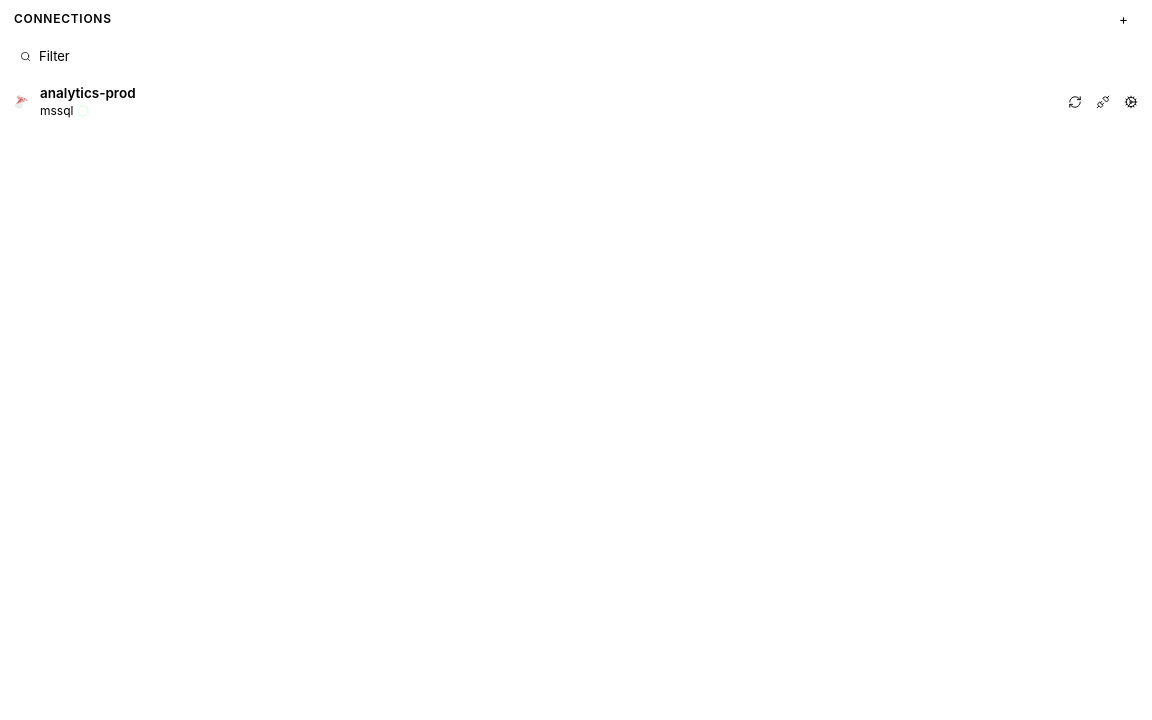
CombinedConnectionsTree › groups MSSQL schema children and defaults to dbo
Click the button with test id "expand-toggle-m1" at (88, 93), box [0,78,1151,126]
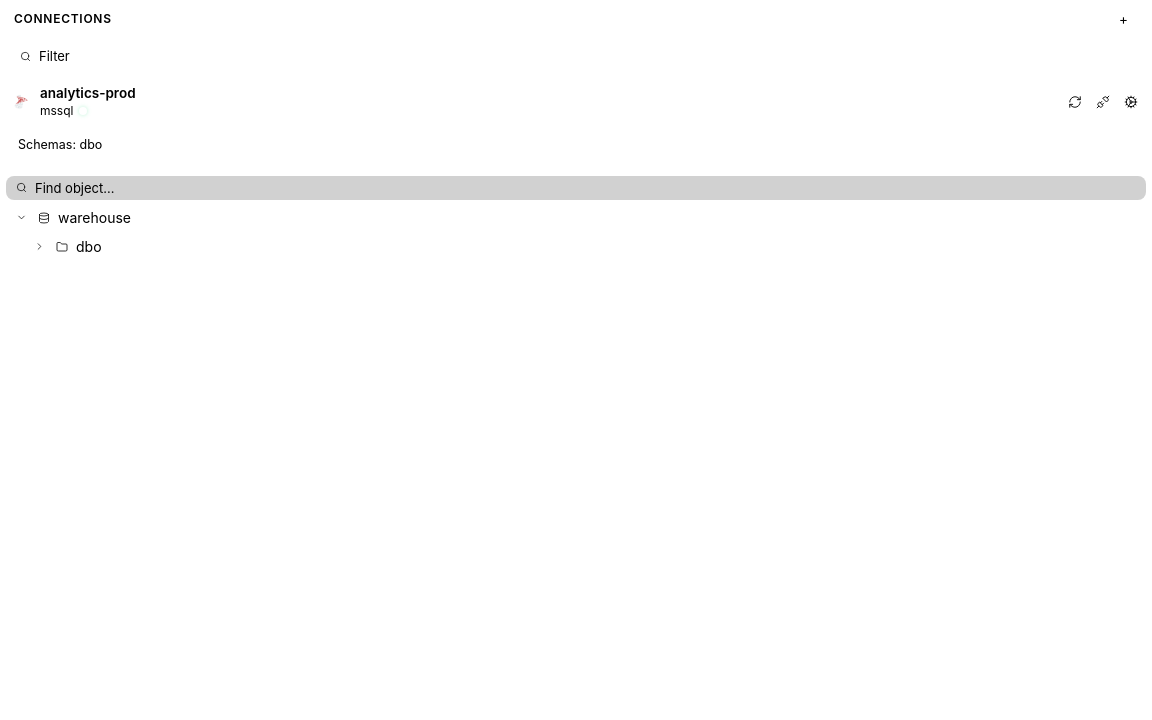
Now the button with test id "schema-select-m1" is shown, box [10,132,1142,160]
Now the element with test id "schema-row-warehouse.dbo" is shown, box [16,233,102,261]
Click the element with test id "chev-warehouse.dbo" at (40, 247), box [34,241,45,252]
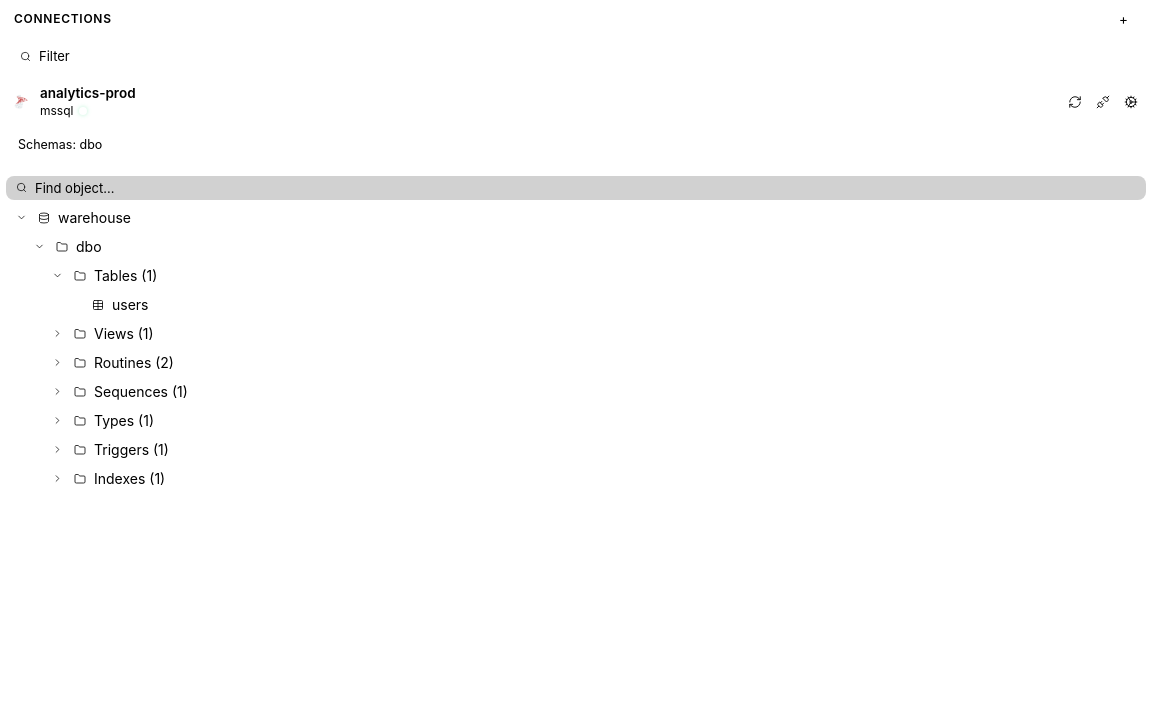
Now the text "Tables (1)" is shown, box [94,266,157,286]
Now the text "Views (1)" is shown, box [94,324,154,344]
Now the text "Routines (2)" is shown, box [94,353,174,372]
